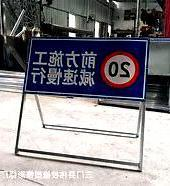sign: (25, 37, 148, 99)
